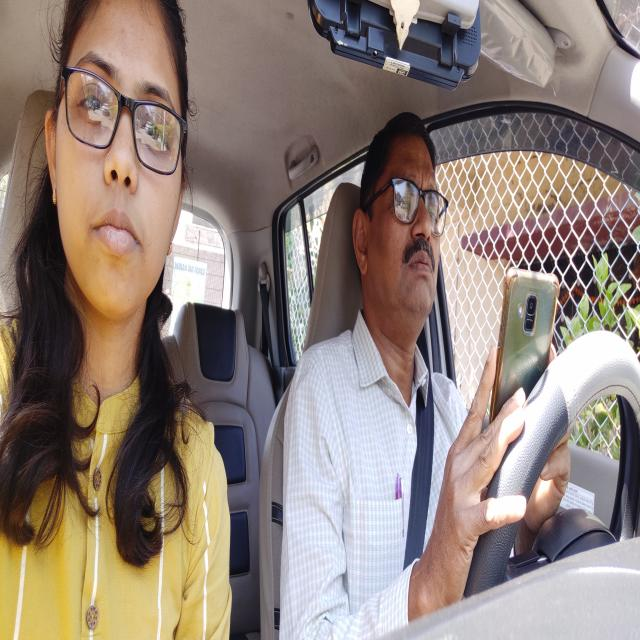mobile: (488, 244, 563, 468)
person: (40, 2, 194, 362), (352, 106, 451, 357)
